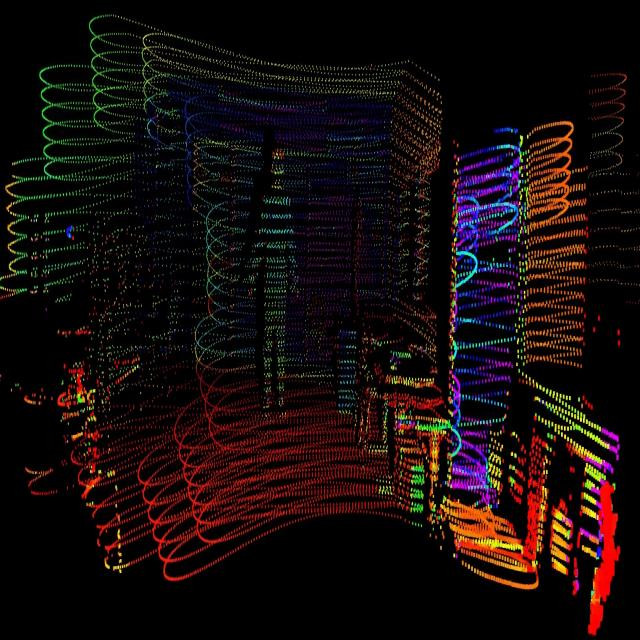human: (246, 142, 306, 421)
